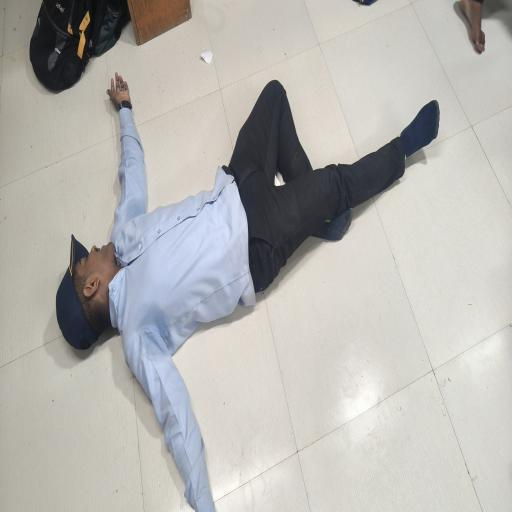survivor: (55, 71, 440, 512), (458, 0, 486, 53)
